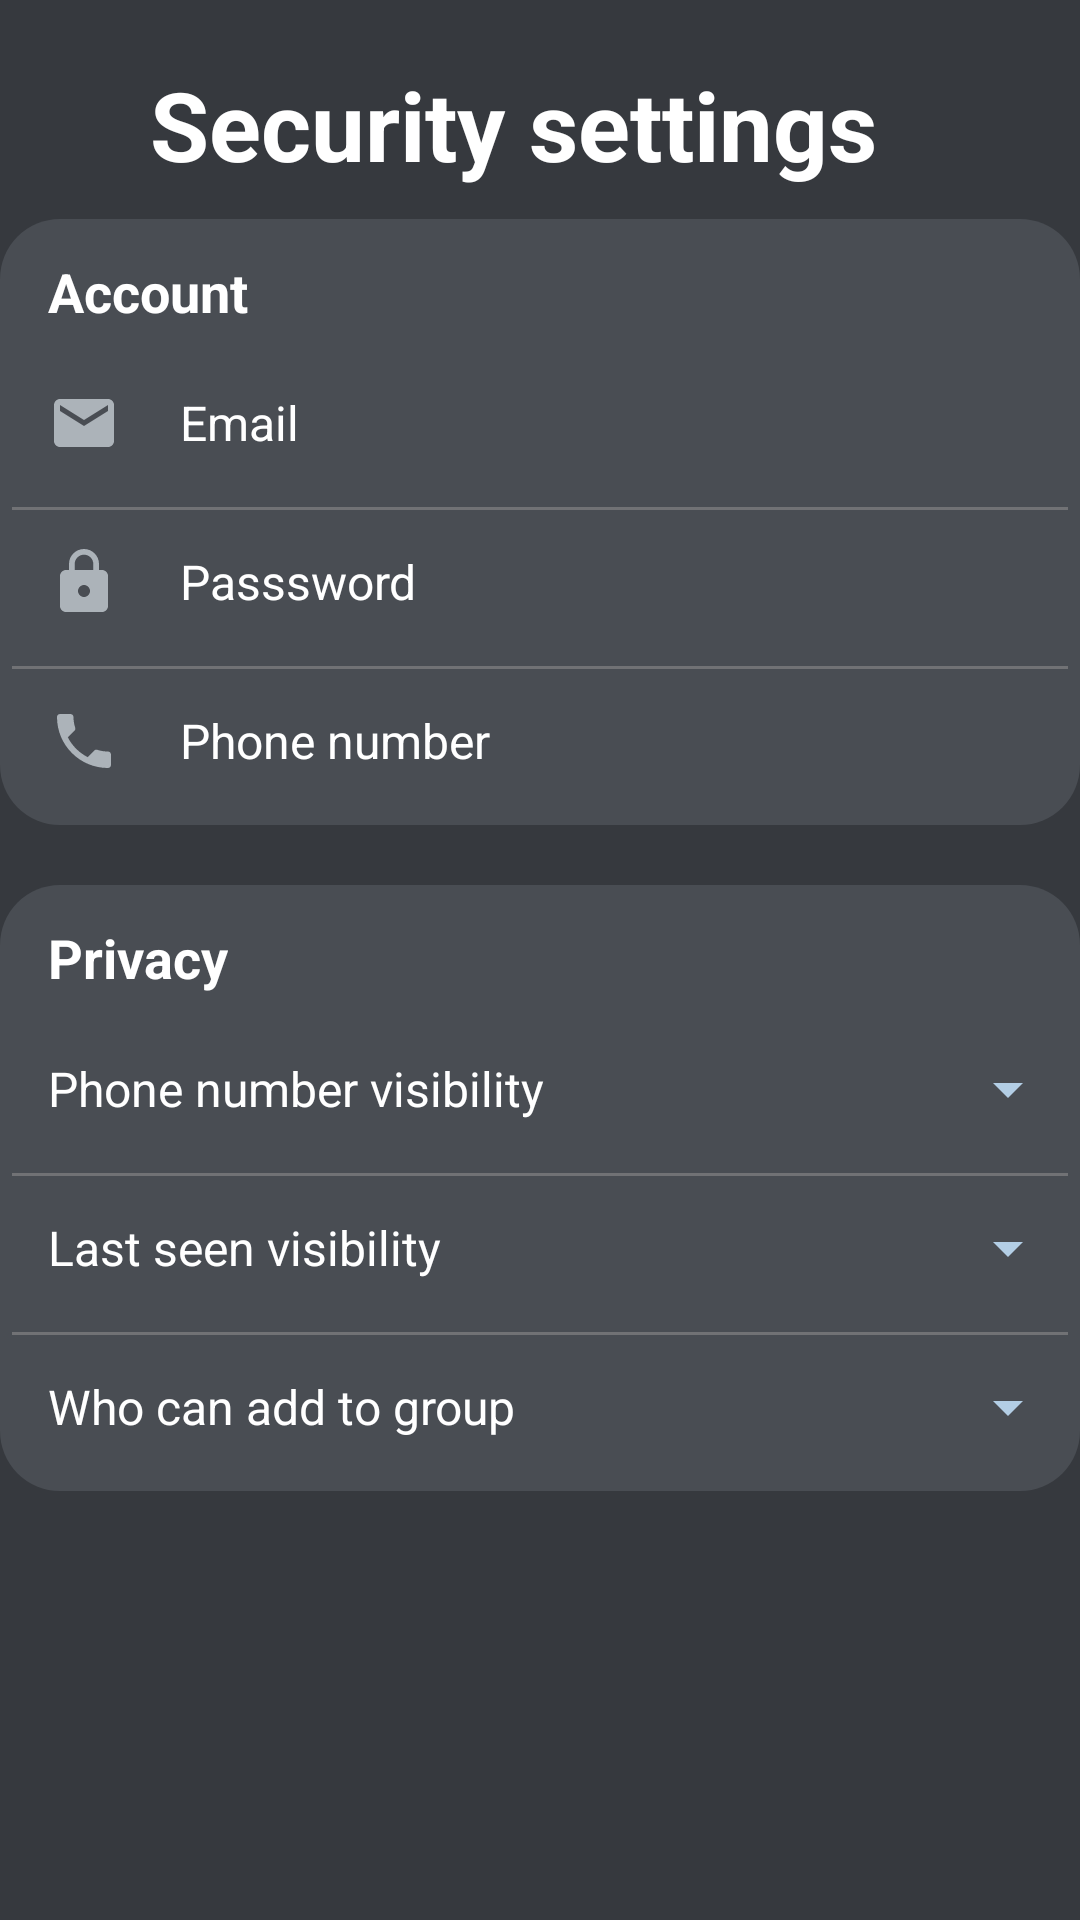

Icons on this 1080×1920 Android screen, each with the point to tap as (x=x, y=y):
lock: (x=84, y=580)
